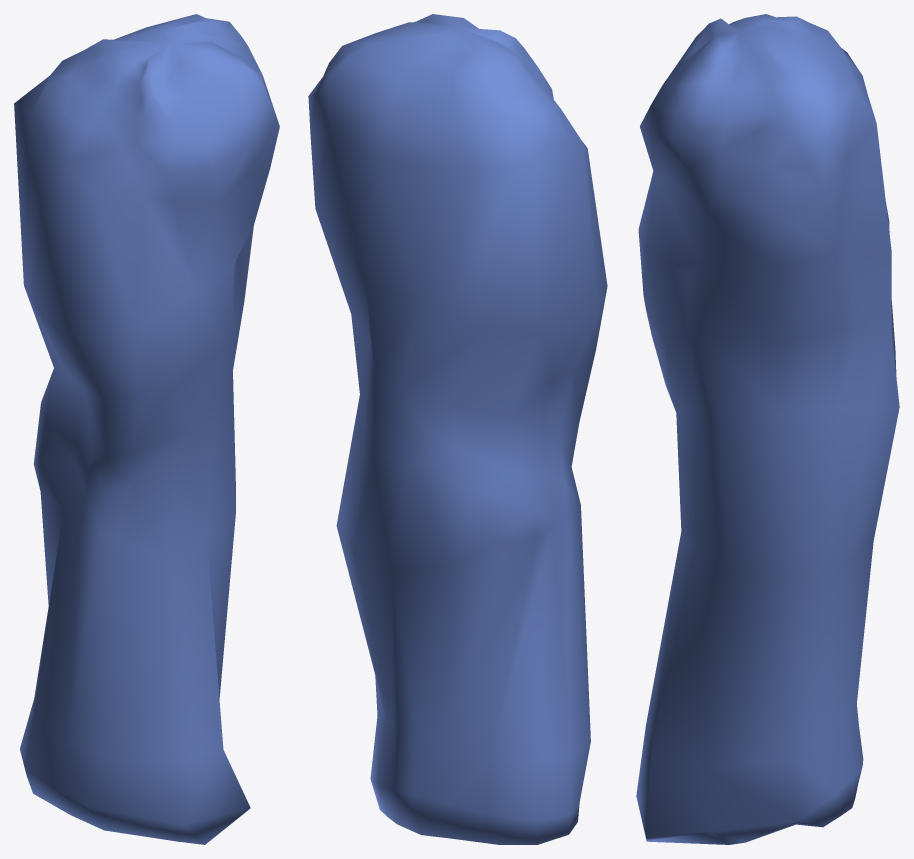
The model's file is UpLeg.L.dae.
The picture shows the model from 3 angles, left to right: view 1: azimuth 30°, elevation 25°; view 2: azimuth 150°, elevation 25°; view 3: azimuth 270°, elevation 25°; orthographic projection. The views are drawn at different scales.
Parts seen in each view (by area): view 1: UpLeg_L; view 2: UpLeg_L; view 3: UpLeg_L.
Boxes of the visible parts, x1,y1,x2,y2 form: UpLeg_L: (14,14,279,844); UpLeg_L: (308,14,607,844); UpLeg_L: (636,14,899,844).
Size of the model in its own units: 0.1534 by 0.1378 by 0.4728.
